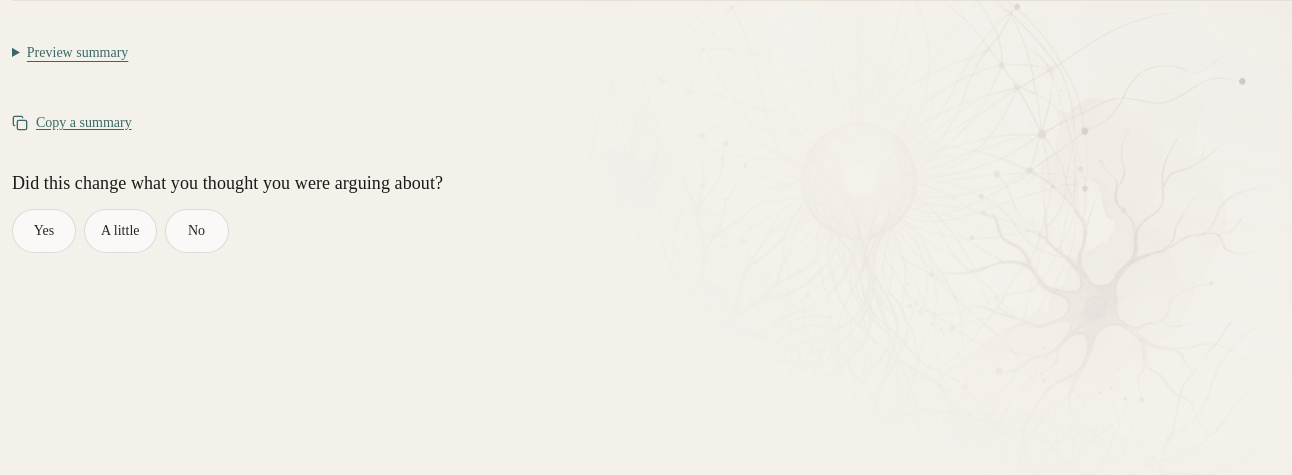
Test: copy feedback › clears an earlier success when a summary copy retry fails
The image size is (1292, 475).
Click the button "Copy a summary": (72, 123) [12, 101, 132, 145]
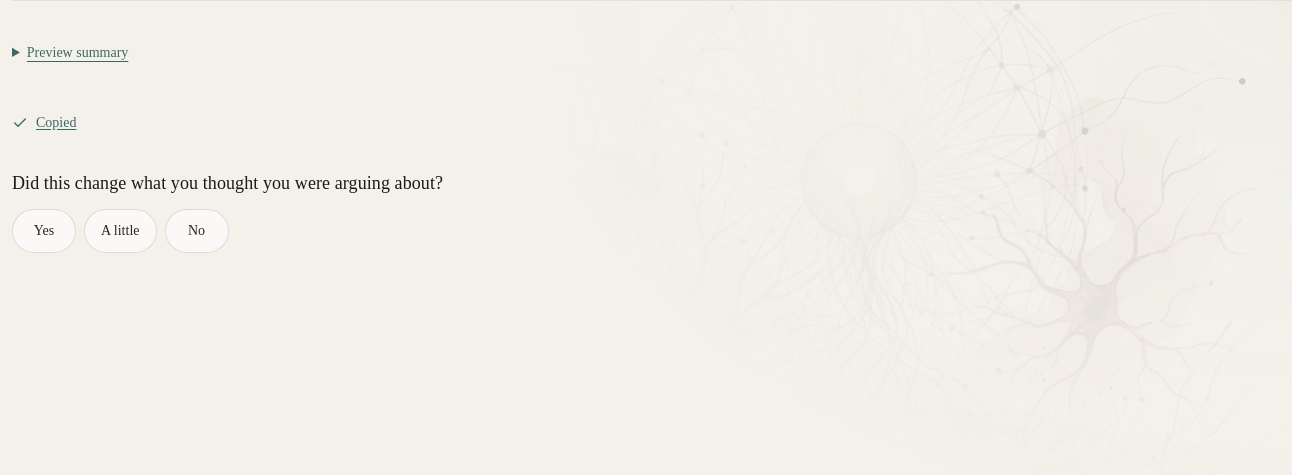
Click the button "Copied": (44, 123) [12, 101, 76, 145]
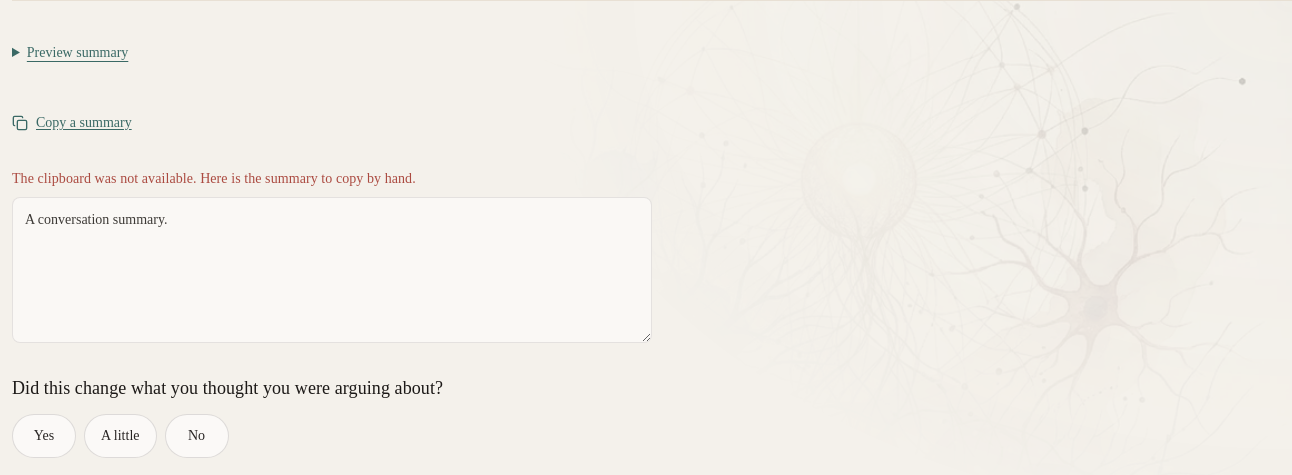
Expected: the button "Copied" is gone
Expected: the text box named "Summary to copy" is shown, [12, 197, 652, 343]
